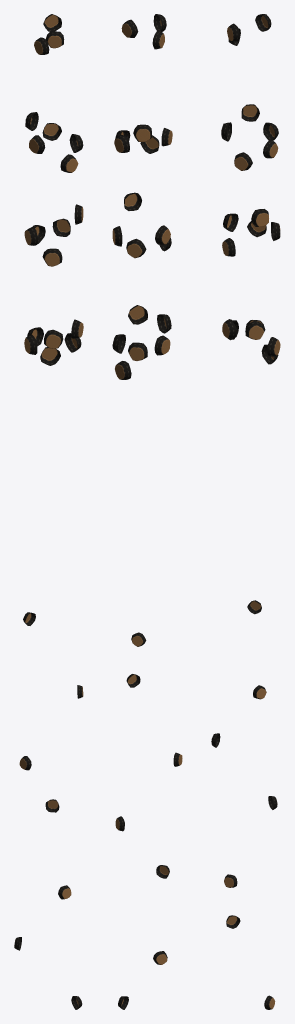
File: Sitka_OldLarge_01_HighPruned_Recent_LOD1.fbx
The picture shows the model from 3 angles, left to right: view 1: azimuth 30°, elevation 25°; view 2: azimuth 150°, elevation 25°; view 3: azimuth 330°, elevation 25°; orthographic projection.
Parts seen in each view (by area): view 1: Sitka_OldLarge_01_HighPruned_Recent_LOD1_Scars; view 2: Sitka_OldLarge_01_HighPruned_Recent_LOD1_Scars; view 3: Sitka_OldLarge_01_HighPruned_Recent_LOD1_Scars.
Boxes of the visible parts, x1,y1,x2,y2 form: Sitka_OldLarge_01_HighPruned_Recent_LOD1_Scars: (14,14,83,1009); Sitka_OldLarge_01_HighPruned_Recent_LOD1_Scars: (112,14,182,1009); Sitka_OldLarge_01_HighPruned_Recent_LOD1_Scars: (211,14,280,1009).
Size of what is drawn, in the model's own units: 64.56 by 1004 by 63.21.
Materials: 2 (2 with a texture image).
